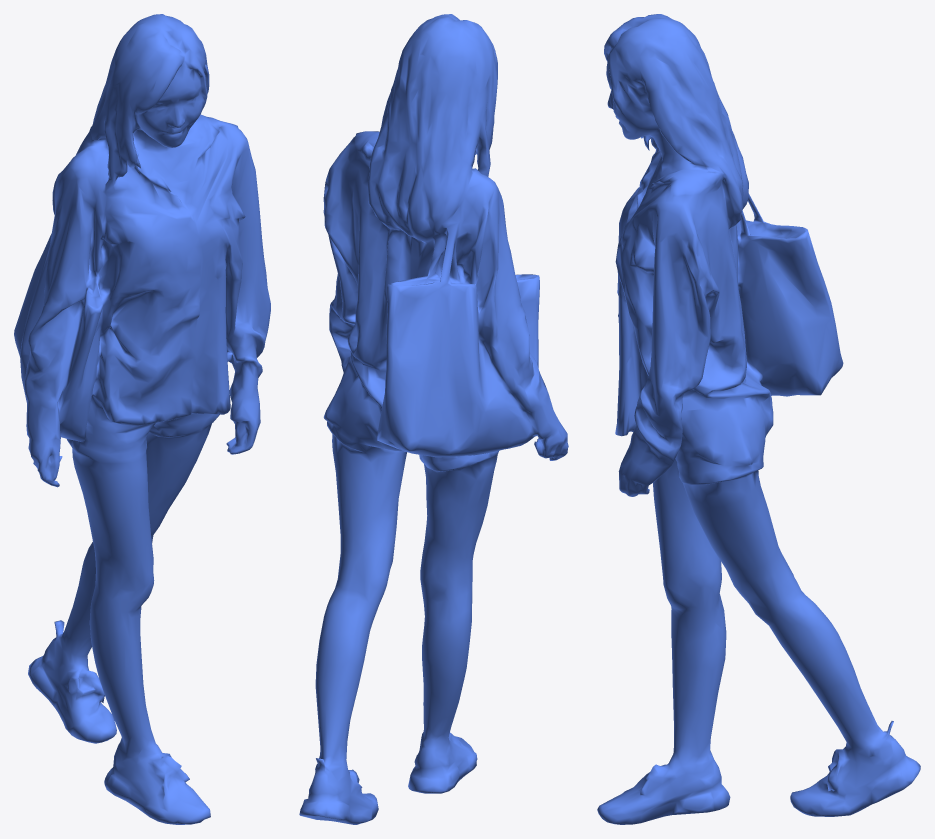
File: example.glb
3 views of the same model, side by side, from view 1: azimuth 30°, elevation 25°; view 2: azimuth 150°, elevation 25°; view 3: azimuth 270°, elevation 25° (orthographic). The views are drawn at different scales.
Visible parts, largest first — view 1: uploads_files_1937288_Jess_Casual_Walking_001; view 2: uploads_files_1937288_Jess_Casual_Walking_001; view 3: uploads_files_1937288_Jess_Casual_Walking_001.
Boxes of the visible parts, x1=… form: uploads_files_1937288_Jess_Casual_Walking_001: x1=14, y1=14, x2=270, y2=824; uploads_files_1937288_Jess_Casual_Walking_001: x1=299, y1=14, x2=568, y2=824; uploads_files_1937288_Jess_Casual_Walking_001: x1=597, y1=14, x2=920, y2=824.
Size of the model in its own units: 10.6 by 33.22 by 12.27.
